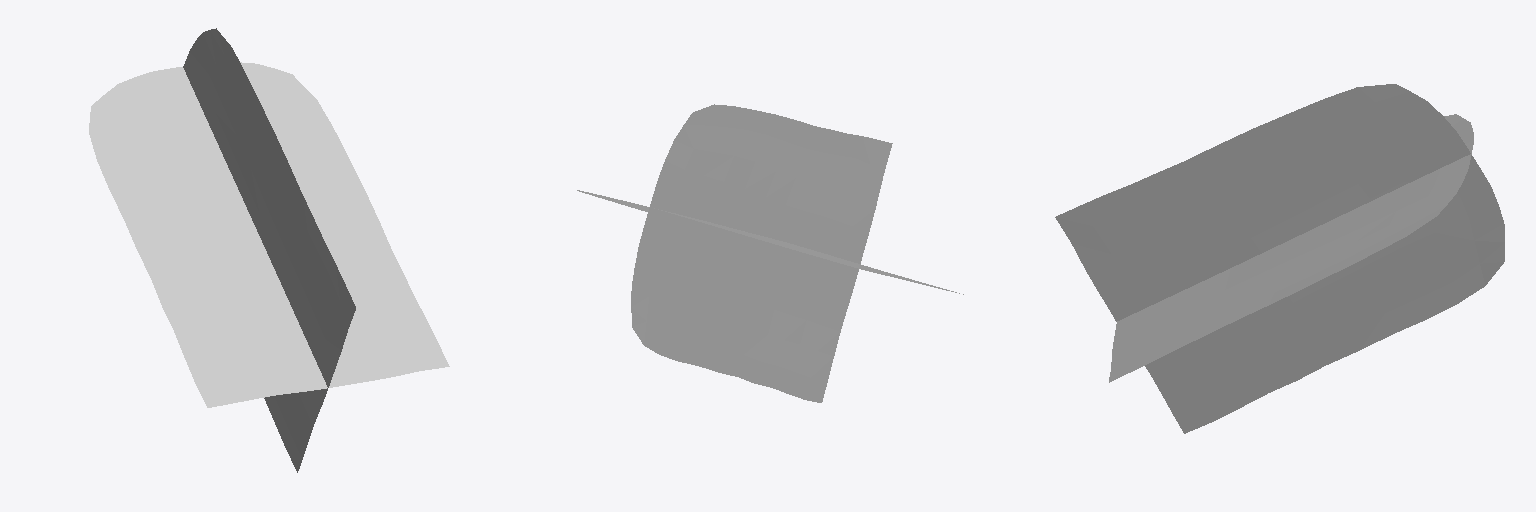
The model's file is energie.OBJ.
The picture shows the model from 3 angles: view 1: azimuth 30°, elevation 25°; view 2: azimuth 150°, elevation 25°; view 3: azimuth 270°, elevation 25°; orthographic projection.
Visible parts, largest first — view 1: ZBrushPolyMesh3D; view 2: ZBrushPolyMesh3D; view 3: ZBrushPolyMesh3D.
Boxes of the visible parts, x1,y1,x2,y2 form: ZBrushPolyMesh3D: [89, 28, 449, 472]; ZBrushPolyMesh3D: [577, 104, 963, 402]; ZBrushPolyMesh3D: [1055, 84, 1504, 433].
Bounding box in the file's own units: 0.1081 × 0.1499 × 0.1689.